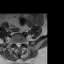CCS_normal: (17, 41, 19, 49)
LFS_stenosis: (21, 39, 23, 45)
LLS_normal: (19, 41, 21, 48)
RFS_stenosis: (14, 40, 16, 45)
RLS_normal: (16, 40, 17, 48)
